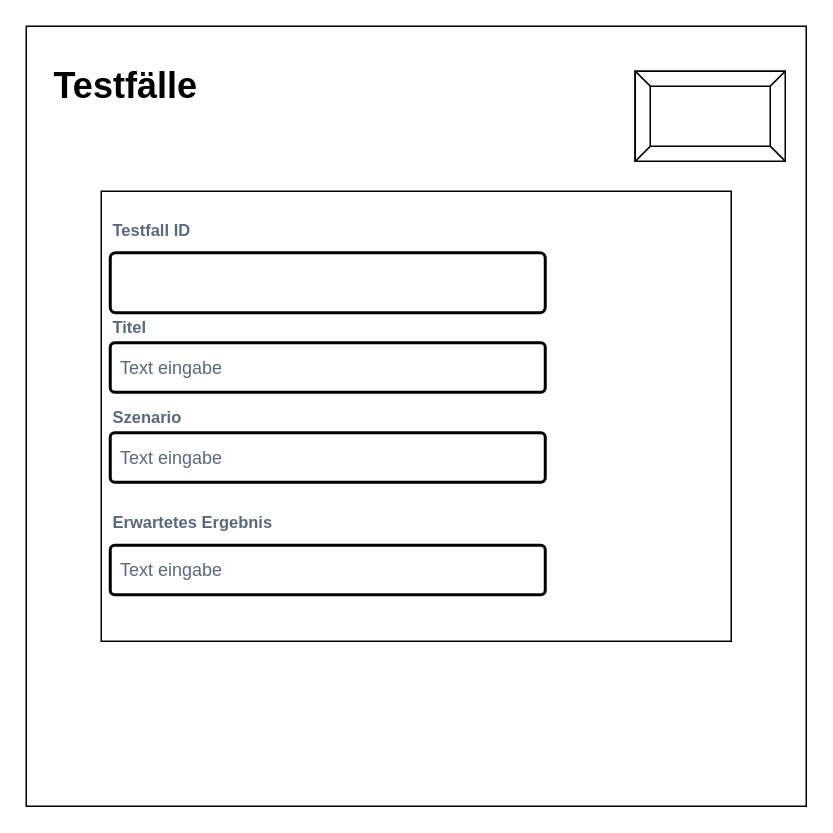
The diagram is 833 pixels wide and 833 high, and some of its shapes have lost their labels. Each missing label, with the box of its shape:
Automatisch: (108, 250, 546, 314)
Testfall hinzufügen: (634, 70, 785, 161)
